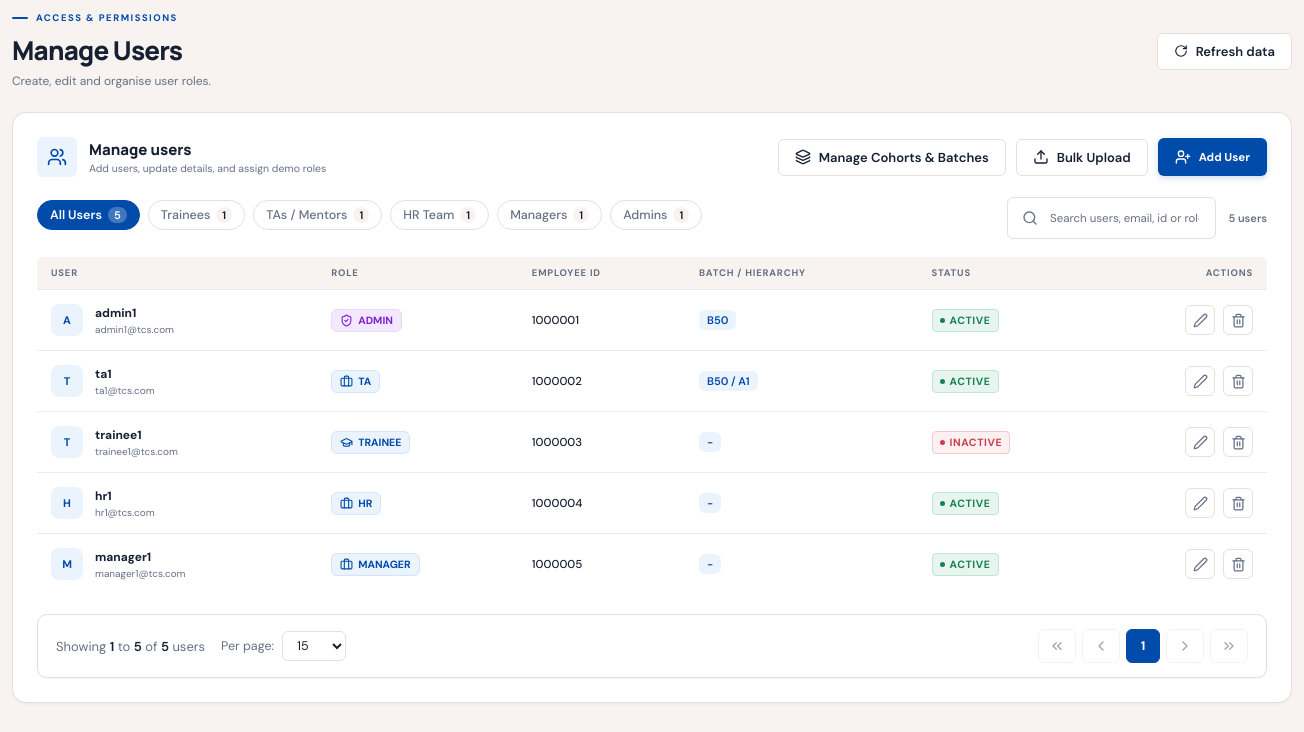
Test: ManageUsers page › filters rows by the search box
Expected: the text "admin1" is shown, [95,304,136,320]
Type "trainee1" into the field named "search users by name, email, or role". click: (1125, 218)
box: [1048,210,1202,226]
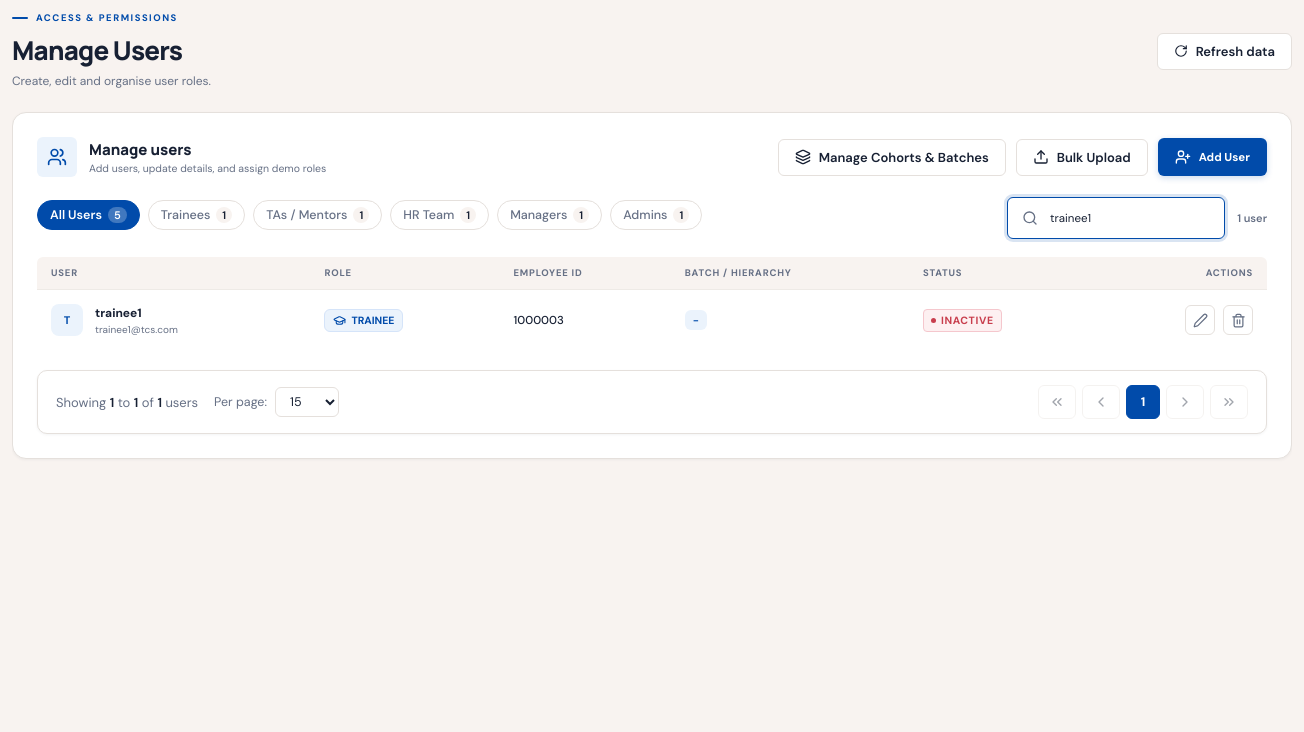
Expected: the text "trainee1" is shown, [95,304,142,320]
Now the text "admin1" is gone
Now the text "1 user" is shown, box [1237,211,1267,225]
